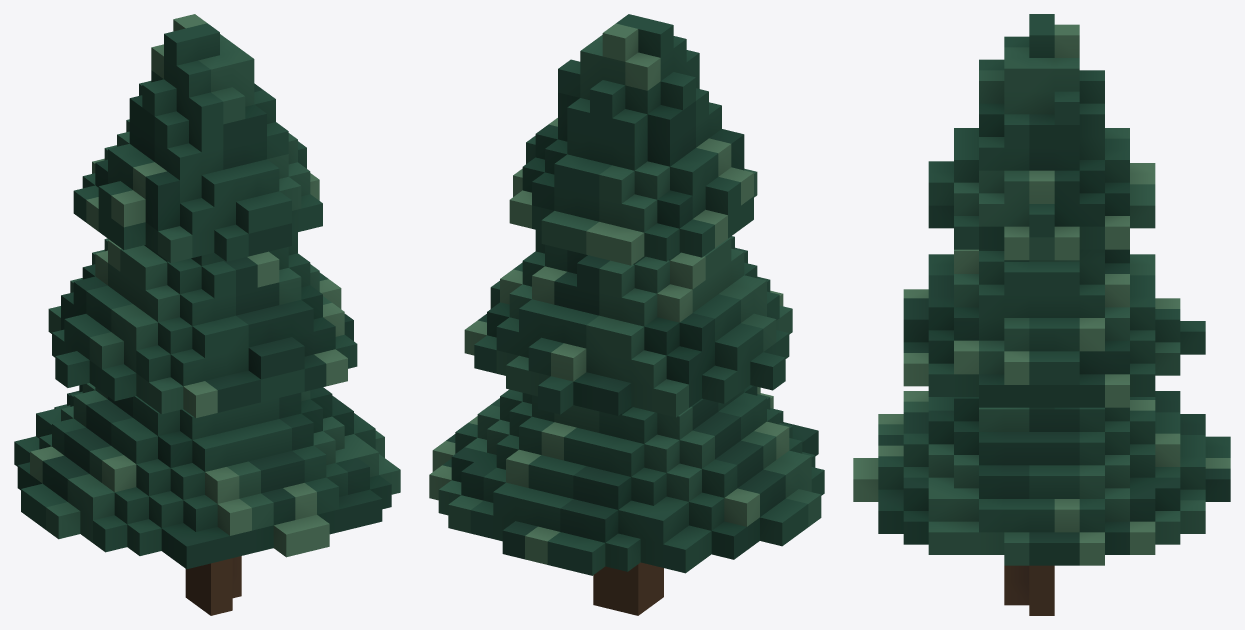
Rendered from tree_pine_b.glb.
The picture shows the model from 3 angles, left to right: view 1: azimuth 30°, elevation 25°; view 2: azimuth 150°, elevation 25°; view 3: azimuth 270°, elevation 25°; orthographic projection. The views are drawn at different scales.
Parts seen in each view (by area): view 1: Model; view 2: Model; view 3: Model.
Part boxes in pixels (box(x1,y1,x2,y2)): Model: box(14, 14, 400, 615); Model: box(429, 14, 824, 615); Model: box(853, 14, 1230, 615).
Bounding box in the file's own units: 3 × 5 × 3.
